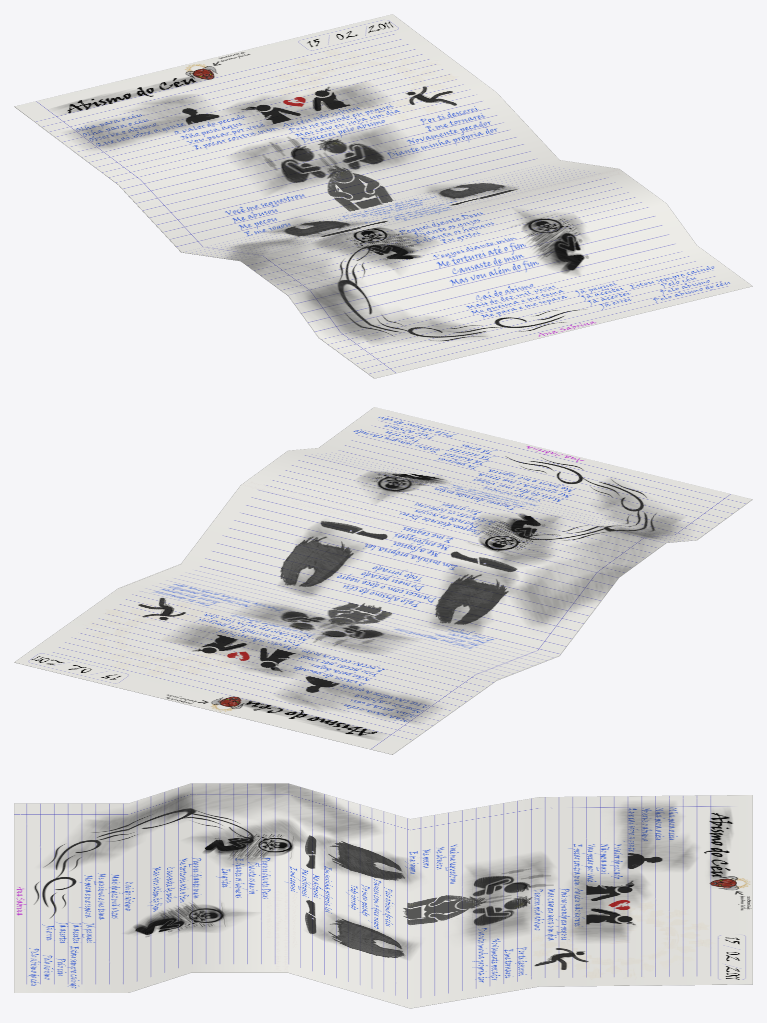
File: poesia_02_MESH.fbx
3 views of the same model, one above another, from view 1: azimuth 30°, elevation 25°; view 2: azimuth 150°, elevation 25°; view 3: azimuth 270°, elevation 25° (orthographic). The views are drawn at different scales.
Visible parts, largest first — view 1: Poesia_02; view 2: Poesia_02; view 3: Poesia_02.
Part boxes in pixels (<box>): Poesia_02: <box>14,14,752,378</box>; Poesia_02: <box>14,407,752,754</box>; Poesia_02: <box>14,783,752,1008</box>.
Bounding box in the file's own units: 2.45 × 0.2161 × 4.03.
1 material, 1 textured.
